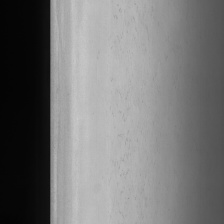silk_spot: (102, 0, 164, 214)
